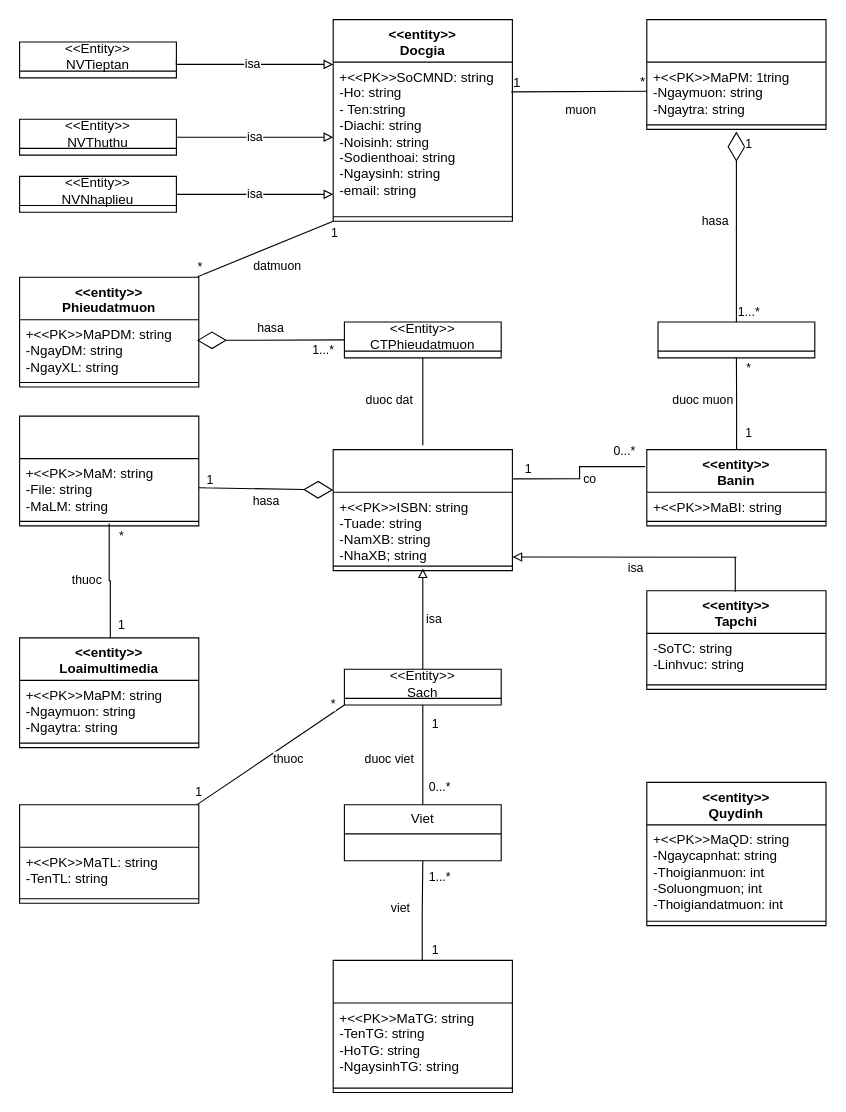
Some shapes in this 846 by 1112 pixel diagram are drawn without their labels. The box of each missing label's shape, as (x1, y1, x2, y2) in pixels:
<<Entity>> CTPhieumuon: (657, 321, 815, 358)
<<entity>> Multimedia: (18, 415, 199, 526)
<<entity>> Phieumuon: (646, 18, 826, 129)
<<entity>> Tacgia: (332, 959, 512, 1093)
<<entity>> Tailieu: (332, 449, 512, 571)
<<entity>> Theloai: (18, 804, 199, 903)
